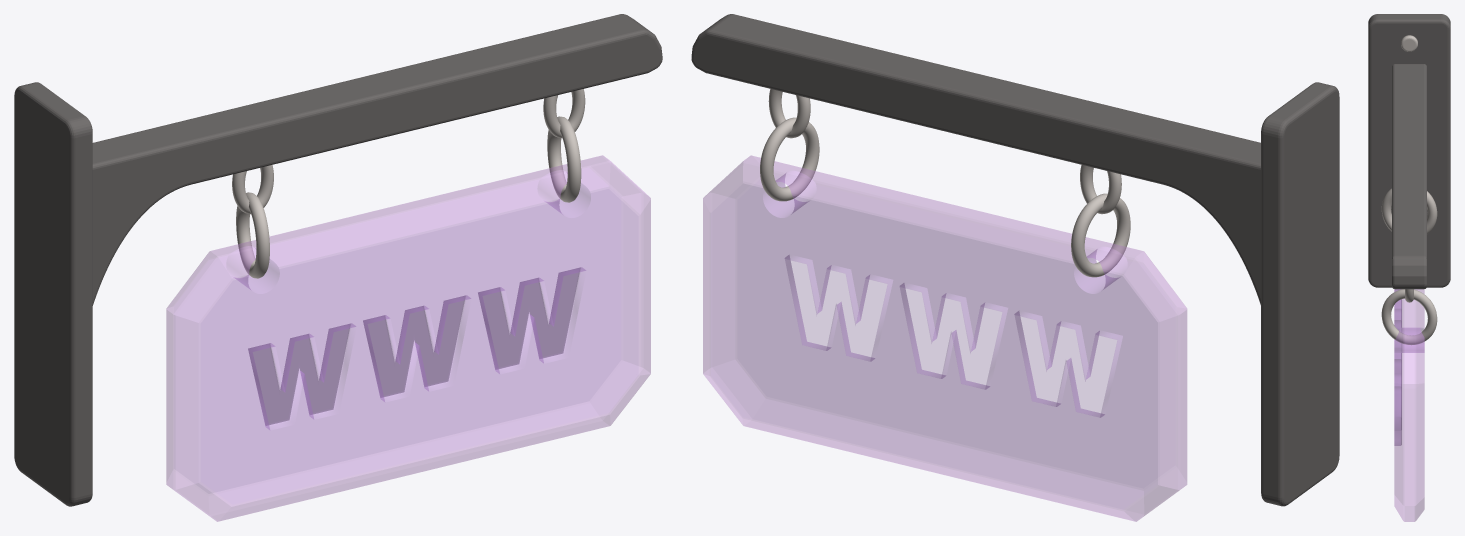
Rendered from api-gateway-domain-name.glb.
3 renders of one model, left to right at view 1: azimuth 30°, elevation 25°; view 2: azimuth 150°, elevation 25°; view 3: azimuth 270°, elevation 25°, orthographic. The views are drawn at different scales.
Parts seen in each view (by area): view 1: Facet-cut violet hostname plaque, Cantilever arm with swept gusset, Perpendicular wall mounting plate, Right hanging link, Left hanging link, Right upper eye, Left upper eye; view 2: Facet-cut violet hostname plaque, Cantilever arm with swept gusset, Perpendicular wall mounting plate, Left hanging link, Right hanging link, Right upper eye, Left upper eye; view 3: Perpendicular wall mounting plate, Cantilever arm with swept gusset, Facet-cut violet hostname plaque, Right hanging link, Left hanging link, Mounting stud 1, Right upper eye.
Boxes of the visible parts, left/top/right/bottom form: Facet-cut violet hostname plaque: left=166, top=155, right=650, bottom=521; Cantilever arm with swept gusset: left=92, top=14, right=662, bottom=305; Perpendicular wall mounting plate: left=14, top=82, right=92, bottom=506; Right hanging link: left=547, top=116, right=581, bottom=202; Left hanging link: left=236, top=192, right=269, bottom=278; Right upper eye: left=543, top=89, right=585, bottom=138; Left upper eye: left=232, top=165, right=273, bottom=214; Facet-cut violet hostname plaque: left=703, top=155, right=1186, bottom=521; Cantilever arm with swept gusset: left=691, top=14, right=1260, bottom=304; Perpendicular wall mounting plate: left=1261, top=82, right=1339, bottom=506; Left hanging link: left=1071, top=193, right=1130, bottom=277; Right hanging link: left=760, top=117, right=819, bottom=201; Right upper eye: left=768, top=89, right=810, bottom=138; Left upper eye: left=1080, top=165, right=1121, bottom=214; Perpendicular wall mounting plate: left=1368, top=14, right=1450, bottom=287; Cantilever arm with swept gusset: left=1392, top=64, right=1426, bottom=289; Facet-cut violet hostname plaque: left=1394, top=289, right=1424, bottom=521; Right hanging link: left=1381, top=289, right=1437, bottom=344; Left hanging link: left=1381, top=188, right=1437, bottom=234; Mounting stud 1: left=1401, top=35, right=1417, bottom=51; Right upper eye: left=1405, top=289, right=1413, bottom=302.
Size of the model in its own units: 4.03 by 2.89 by 0.68.
